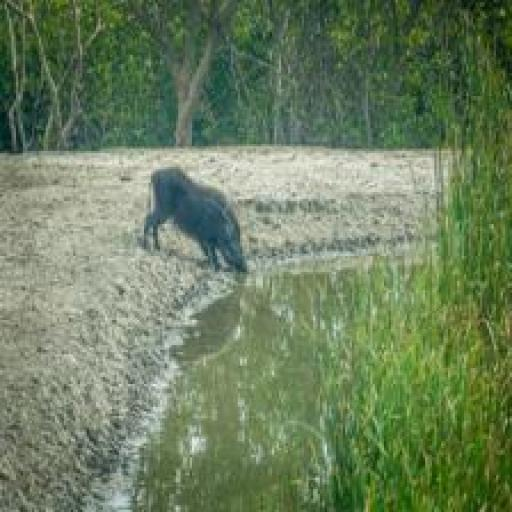Pig: (139, 162, 254, 290)
